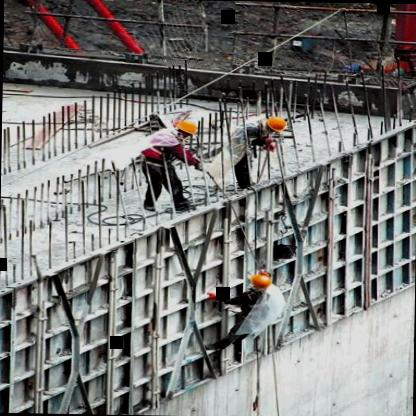helmet: (242, 274, 274, 296), (262, 114, 292, 136), (171, 118, 201, 140)
